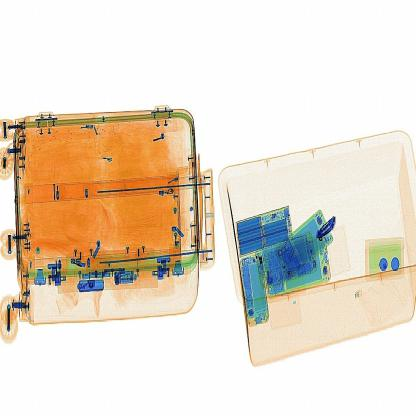knife: (314, 210, 347, 246)
